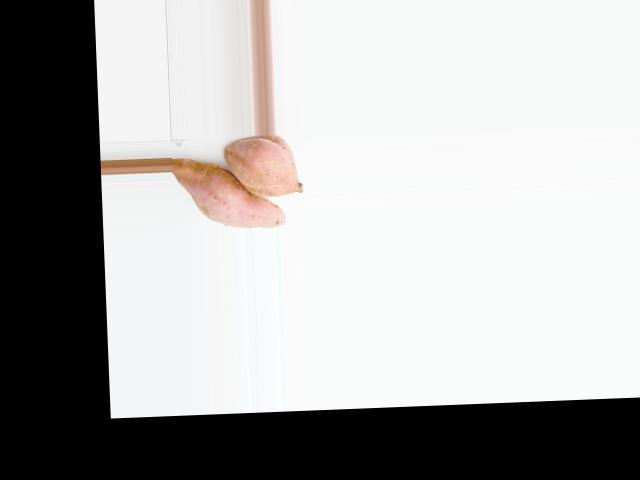sweet_potato: (227, 141, 304, 193)
